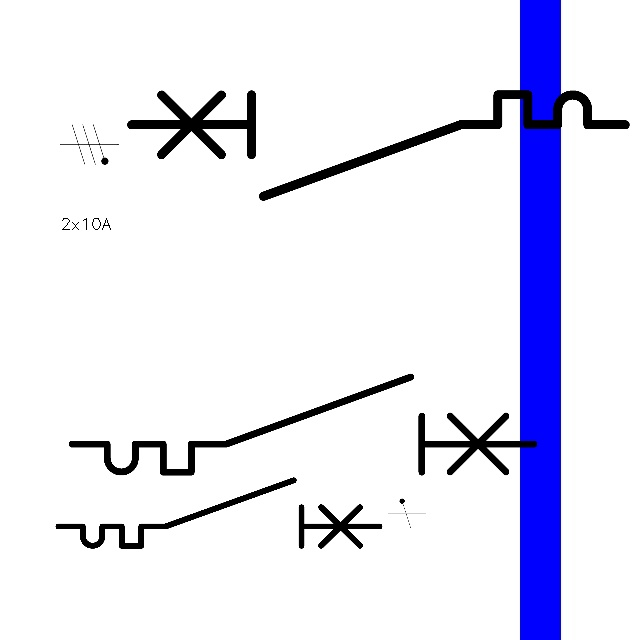interruptor_termomagnetico: (118, 82, 637, 209), (60, 365, 546, 484), (50, 472, 387, 554)
